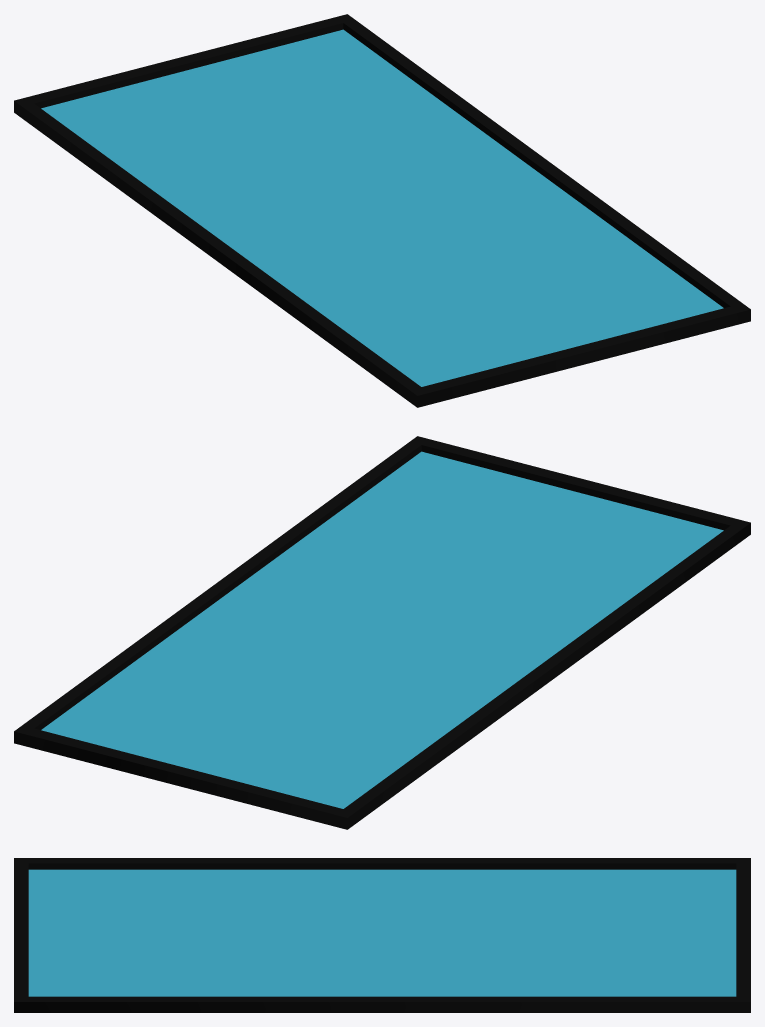
Rendered from cuachinh.obj.
The picture shows the model from 3 angles, top to bottom: view 1: azimuth 30°, elevation 25°; view 2: azimuth 150°, elevation 25°; view 3: azimuth 270°, elevation 25°; orthographic projection. The views are drawn at different scales.
Visible parts, largest first — view 1: cuachinh; view 2: cuachinh; view 3: cuachinh.
Part boxes in pixels (bbox=[...]): cuachinh: bbox=[14, 14, 750, 407]; cuachinh: bbox=[14, 436, 750, 829]; cuachinh: bbox=[14, 858, 750, 1012].
Bounding box in the file's own units: 4.59 × 0.225 × 9.61.
